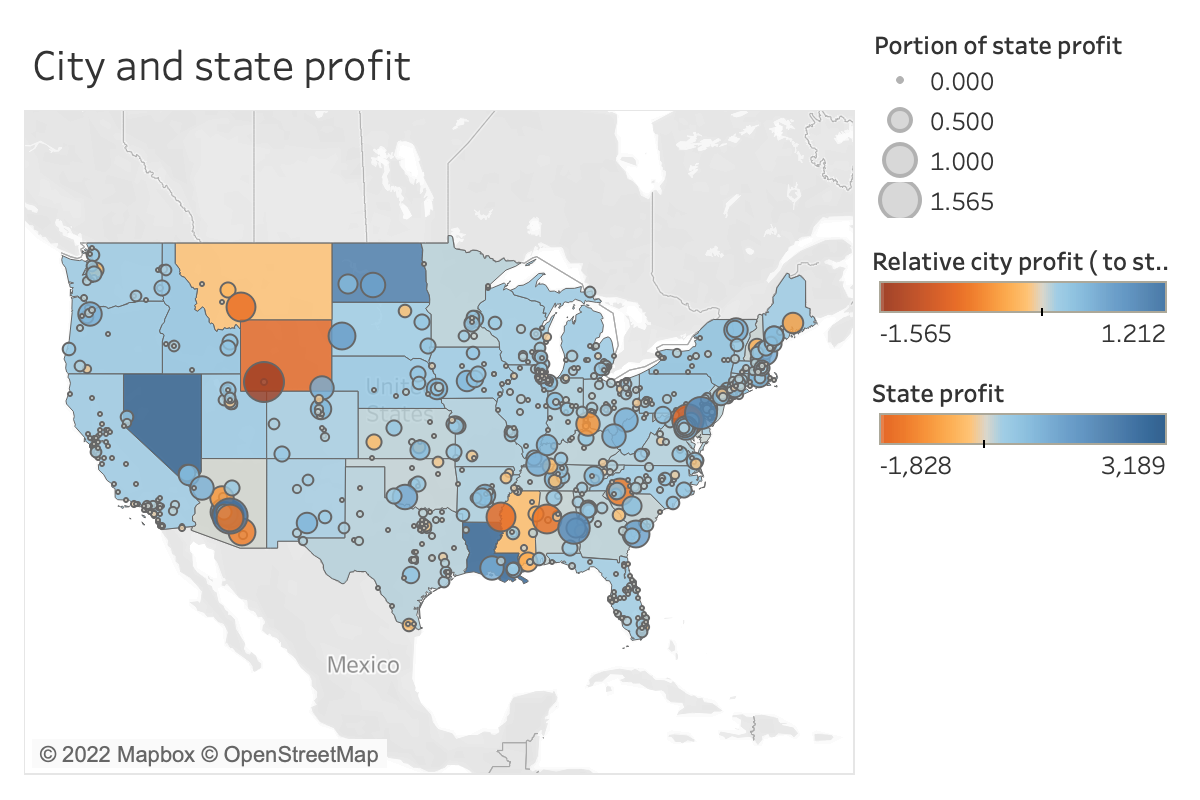

Layout of this report page (visuals, bound fields, positions):
{"tool":"tableau","page":{"name":"Dashboard 1","canvas":[600,400],"ordinal":0},"visuals":[{"type":"worksheet","title":"COMBINED VISUALIZATION","mark":"Automatic","box":[8,8,424,384]},{"type":"legend","title":"COMBINED VISUALIZATION","param":"[federated.1s0brhn0g8nutf15au6h300d4ecn].[usr:Calculation_766737849247457284:qk]","box":[432,8,160,106]},{"type":"legend","title":"COMBINED VISUALIZATION","param":"[federated.1s0brhn0g8nutf15au6h300d4ecn].[usr:Calculation_766737849248706567:qk]","box":[432,114,160,65]},{"type":"legend","title":"COMBINED VISUALIZATION","param":"[federated.1s0brhn0g8nutf15au6h300d4ecn].[avg:Calculation_574912651511746560:qk]","box":[432,179,160,65]}]}

Visuals, with their boxes in screenshot pixels (x1, y1, x2, y2), scaled from the page's 600x400 canvas onto the 1200x800 screenshot:
"COMBINED VISUALIZATION" worksheet: [left=16, top=16, right=864, bottom=784]
"COMBINED VISUALIZATION" legend: [left=864, top=16, right=1184, bottom=228]
"COMBINED VISUALIZATION" legend: [left=864, top=228, right=1184, bottom=358]
"COMBINED VISUALIZATION" legend: [left=864, top=358, right=1184, bottom=488]
